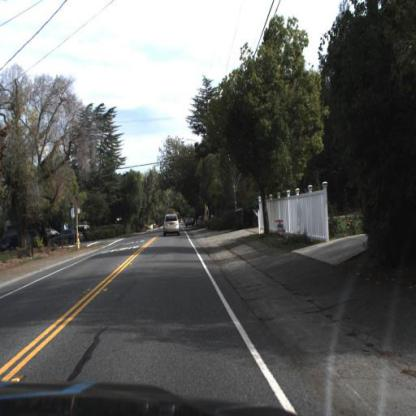car: (163, 209, 184, 237), (56, 226, 84, 246), (185, 215, 196, 231)
